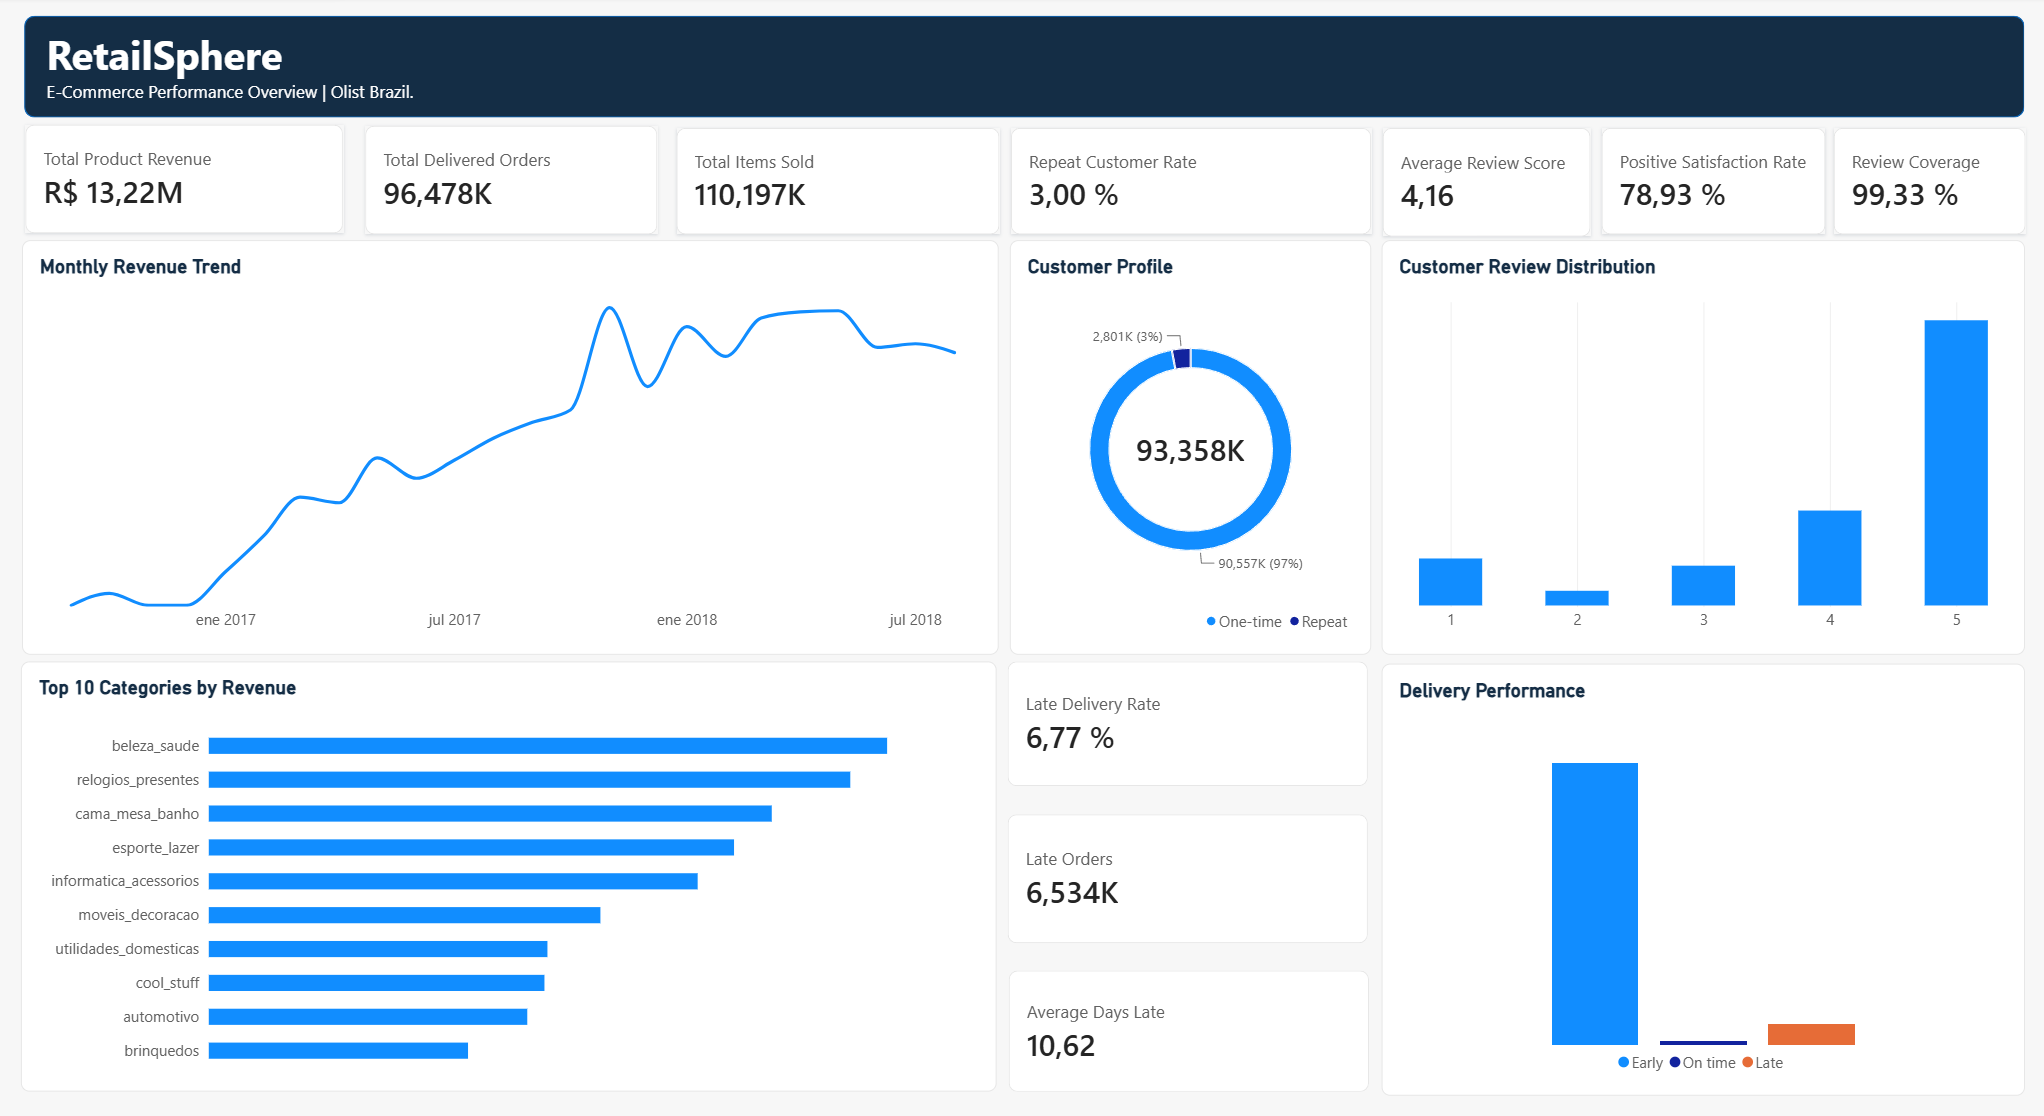

The page's visual inventory and layout, read from the dashboard file:
{"tool":"powerbi","page":{"name":"Executive Overview","canvas":[1920,1080],"ordinal":0},"visuals":[{"type":"cardVisual","fields":{"Data":["analytics monthly_sales.Total Product Revenue"]},"box":[23.3,120,298.9,102.2],"z":0},{"type":"lineChart","title":"Monthly Revenue Trend","fields":{"Category":["analytics monthly_sales.month"],"Y":["analytics monthly_sales.Total Product Revenue"]},"box":[20.7,228.2,916.7,388.9],"z":1000},{"type":"cardVisual","fields":{"Data":["analytics monthly_sales.Total Delivered Orders"]},"box":[342.2,121.1,274.4,102.2],"z":2000},{"type":"cardVisual","fields":{"Data":["analytics monthly_sales.Total Items Sold"]},"box":[634.8,122.3,303.3,100],"z":3000},{"type":"clusteredBarChart","title":"Top 10 Categories by Revenue","fields":{"Category":["analytics category_sales.product_category_name"],"Y":["analytics category_sales.Category Product Revenue"]},"box":[19.6,623.7,915.6,403.3],"z":4000},{"type":"cardVisual","fields":{"Data":["analytics repeat_customers.Repeat Customer Rate"]},"box":[948.2,122.3,338.9,100],"z":5000},{"type":"donutChart","title":"Customer Profile","fields":{"Category":["analytics repeat_customers.Customer Type"],"Y":["analytics repeat_customers.Total Purchasing Customers"]},"box":[947.4,228.2,338.9,388.9],"z":6000},{"type":"cardVisual","fields":{"Data":["analytics delivery_performance.Late Delivery Rate"]},"box":[945.2,623.7,338.9,117.8],"z":7000},{"type":"cardVisual","fields":{"Data":["analytics delivery_performance.Late Orders"]},"box":[945.2,767.1,338.9,121.1],"z":8000},{"type":"cardVisual","fields":{"Data":["analytics delivery_performance.Average Days Late"]},"box":[946.3,913.7,338.9,114.4],"z":9000},{"type":"clusteredColumnChart","title":"Delivery Performance","fields":{"Y":["Sum(analytics delivery_performance.early_deliveries)","Sum(analytics delivery_performance.on_time_deliveries)","Sum(analytics delivery_performance.late_deliveries)"]},"box":[1296.7,625.6,603.3,405.6],"z":10000},{"type":"cardVisual","fields":{"Data":["analytics customer_satisfaction.Average Review Score"]},"box":[1297.1,122.3,195.6,102.2],"z":11000},{"type":"cardVisual","fields":{"Data":["analytics customer_satisfaction.Positive Satisfaction Rate"]},"box":[1502.6,122.3,210,100],"z":12000},{"type":"cardVisual","fields":{"Data":["analytics customer_satisfaction.Review Coverage"]},"box":[1720.4,122.3,180,100],"z":13000},{"type":"clusteredColumnChart","title":"Customer Review Distribution","fields":{"Category":["analytics customer_satisfaction.review_score"],"Y":["analytics customer_satisfaction.Reviewed Orders"]},"box":[1296.3,228.2,603.3,388.9],"z":14000},{"type":"shape","box":[22.2,17.8,1876.7,95.6],"z":14500},{"type":"textbox","box":[23.3,22.2,1876.7,87.8],"z":15000}]}

Visuals, with their boxes on the page's 1920x1080 design canvas (x1, y1, x2, y2). These are canvas units, not pixel positions in the 2044x1116 screenshot, which may show the page scaled, cropped or inside an application window:
cardVisual - analytics monthly_sales.Total Product Revenue: box(23, 120, 322, 222)
"Monthly Revenue Trend" lineChart: box(21, 228, 937, 617)
cardVisual - analytics monthly_sales.Total Delivered Orders: box(342, 121, 617, 223)
cardVisual - analytics monthly_sales.Total Items Sold: box(635, 122, 938, 222)
"Top 10 Categories by Revenue" clusteredBarChart: box(20, 624, 935, 1027)
cardVisual - analytics repeat_customers.Repeat Customer Rate: box(948, 122, 1287, 222)
"Customer Profile" donutChart: box(947, 228, 1286, 617)
cardVisual - analytics delivery_performance.Late Delivery Rate: box(945, 624, 1284, 742)
cardVisual - analytics delivery_performance.Late Orders: box(945, 767, 1284, 888)
cardVisual - analytics delivery_performance.Average Days Late: box(946, 914, 1285, 1028)
"Delivery Performance" clusteredColumnChart: box(1297, 626, 1900, 1031)
cardVisual - analytics customer_satisfaction.Average Review Score: box(1297, 122, 1493, 224)
cardVisual - analytics customer_satisfaction.Positive Satisfaction Rate: box(1503, 122, 1713, 222)
cardVisual - analytics customer_satisfaction.Review Coverage: box(1720, 122, 1900, 222)
"Customer Review Distribution" clusteredColumnChart: box(1296, 228, 1900, 617)
shape: box(22, 18, 1899, 113)
textbox: box(23, 22, 1900, 110)
